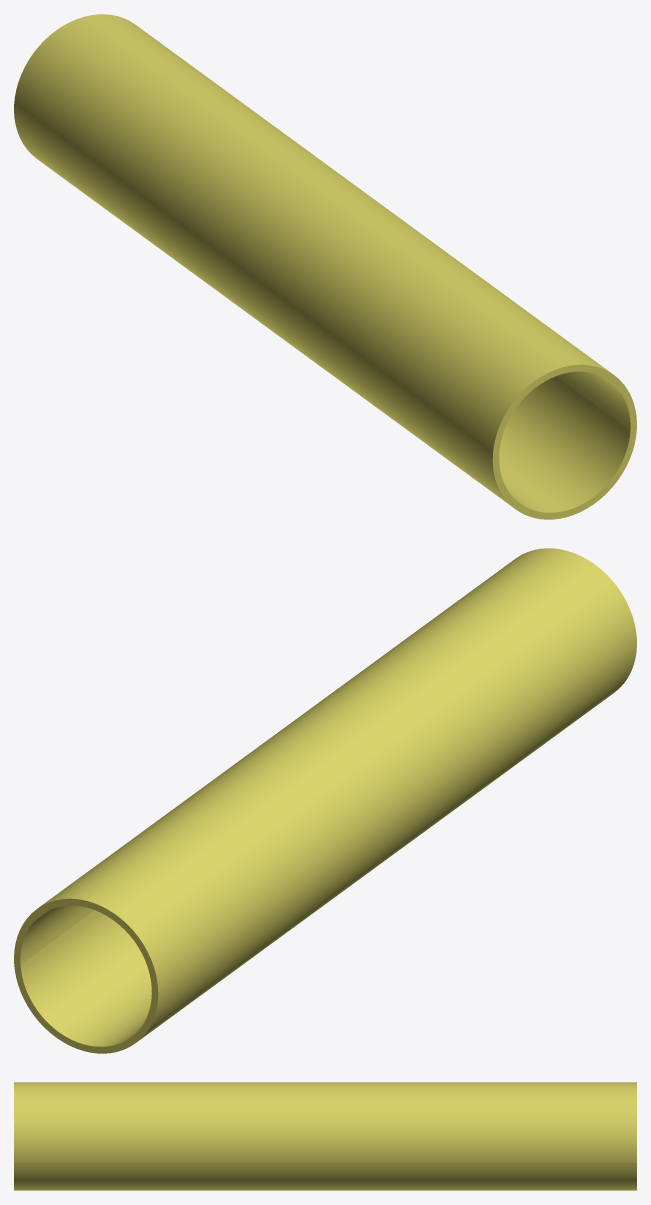
The model's file is sanitaria.fbx.
The picture shows the model from 3 angles, top to bottom: view 1: azimuth 30°, elevation 25°; view 2: azimuth 150°, elevation 25°; view 3: azimuth 270°, elevation 25°; orthographic projection. The views are drawn at different scales.
Visible parts, largest first — view 1: Objeto_1; view 2: Objeto_1; view 3: Objeto_1.
Boxes of the visible parts, x1,y1,x2,y2 form: Objeto_1: (14, 14, 636, 519); Objeto_1: (14, 548, 636, 1053); Objeto_1: (14, 1082, 636, 1190).
Bounding box in the file's own units: 113 × 113 × 648.
